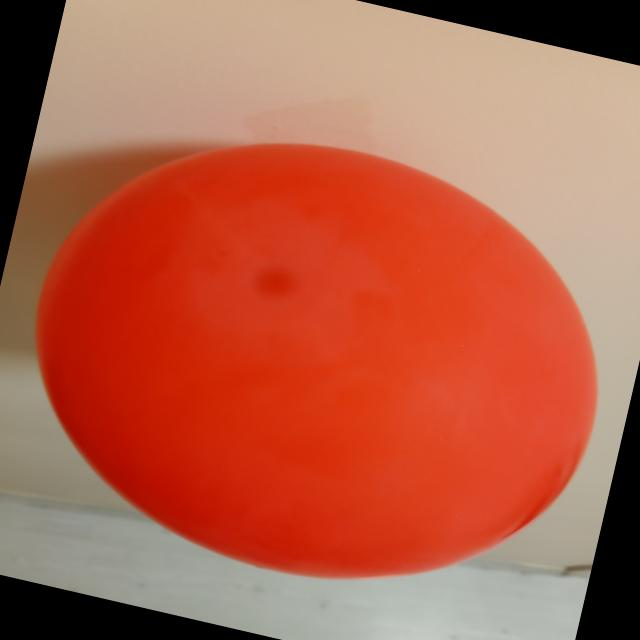balloon: (36, 144, 596, 578)
